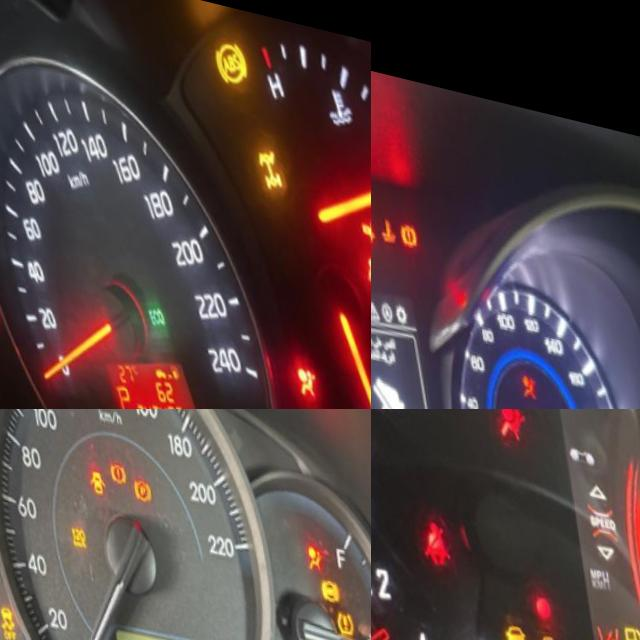Doors: (352, 222, 371, 273)
High Engine Coolant Temperature: (374, 196, 394, 231)
Seat Belt: (404, 509, 444, 571)
